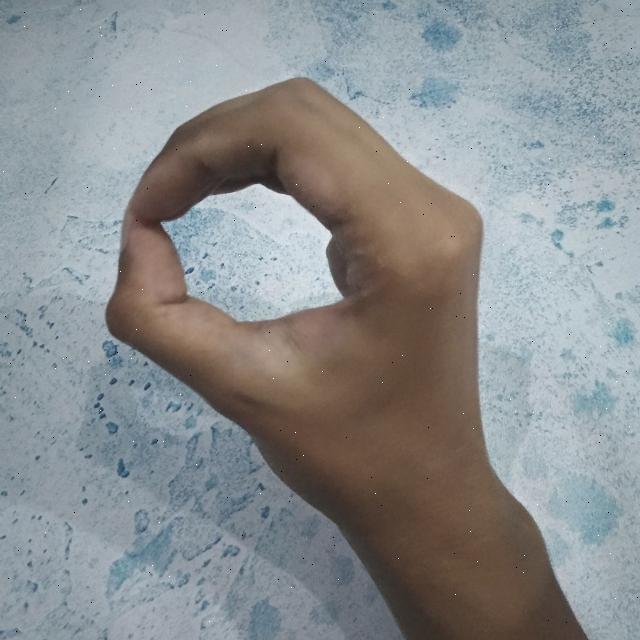O: (97, 72, 584, 640)
